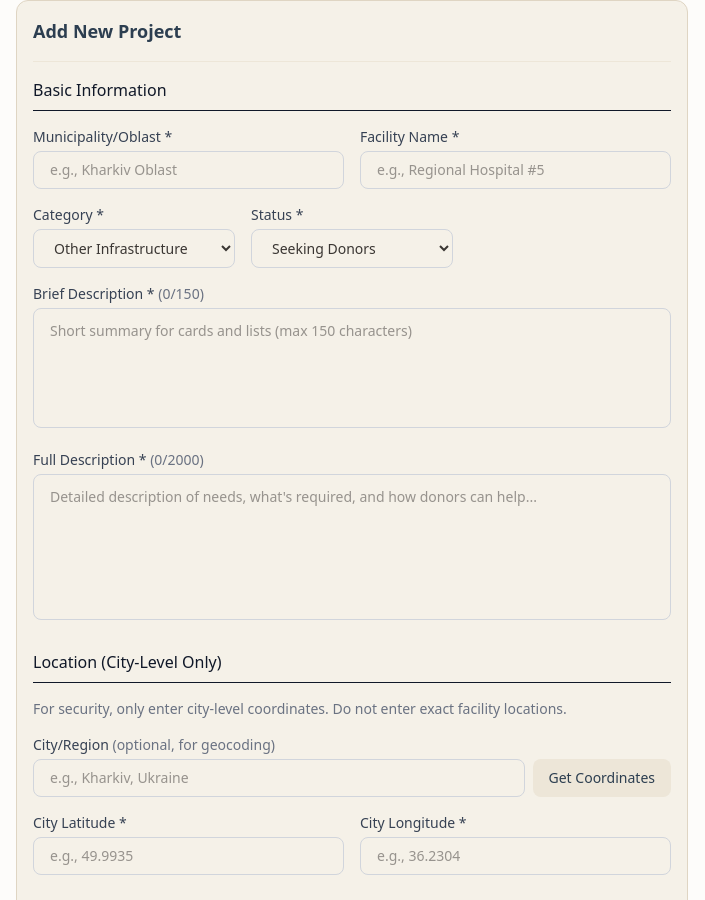
Test case: ProjectForm › Geocoding › shows error when geocoding without address
The width and height of the screenshot is (705, 900).
Click the button "Get Coordinates" at (602, 778), box top-left (532, 759), bottom-right (671, 797)
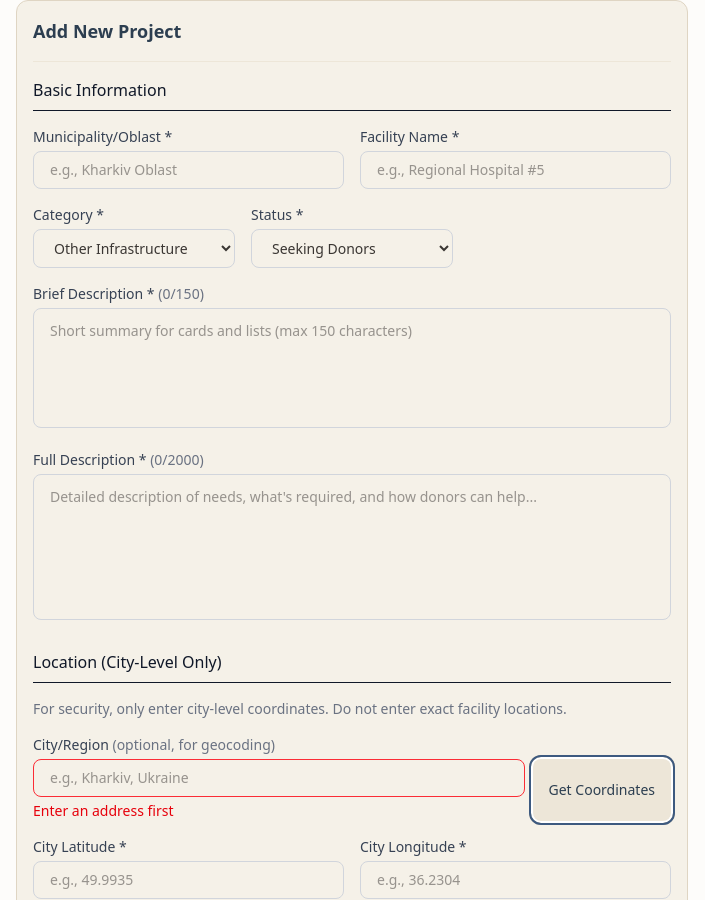
Result: the text "Enter an address first" is shown at top-left (33, 801), bottom-right (174, 820)
